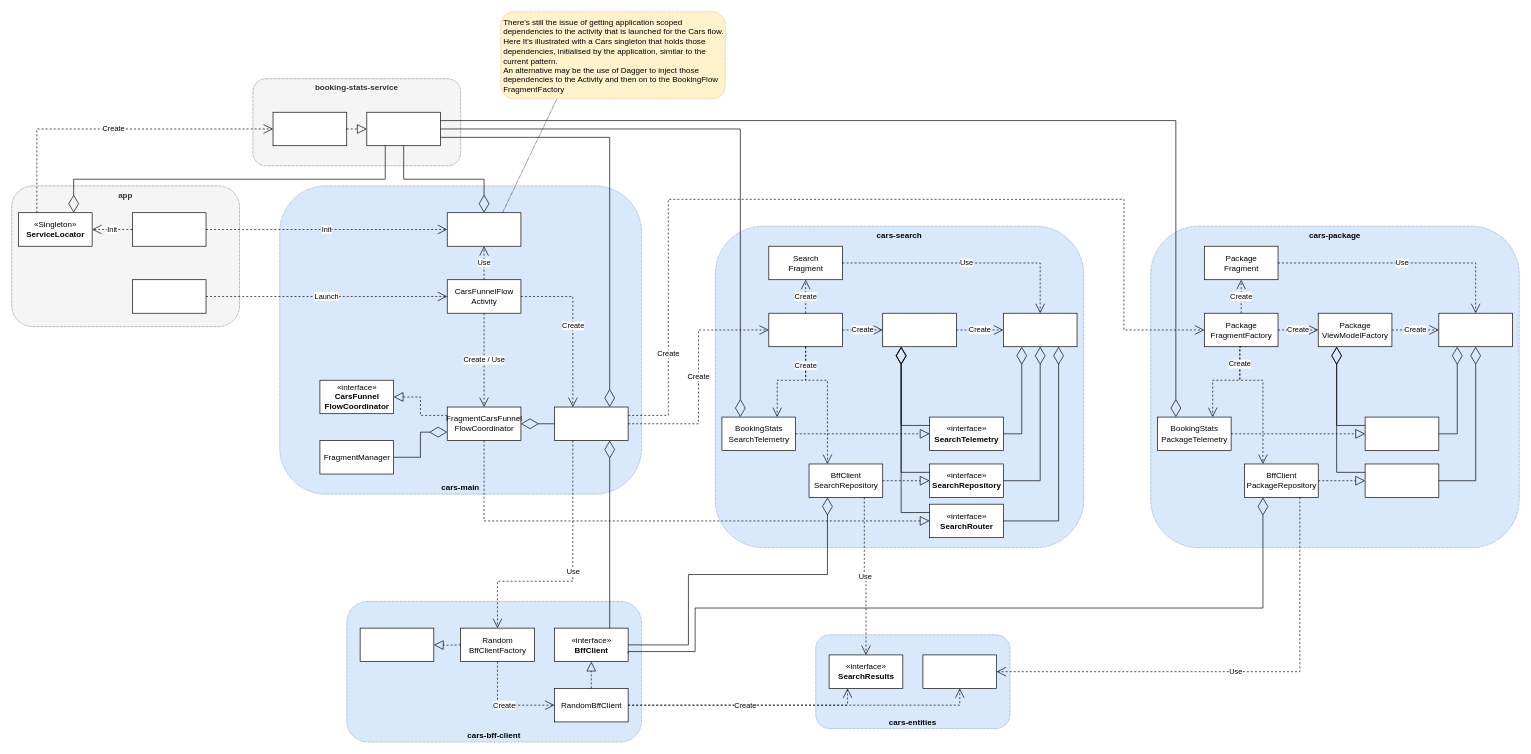
Some shapes in this 1531 by 754 pixel diagram are drawn without their labels. The centre of each missing label's shape, as x and y in pixels:
BookingApp: (x=169, y=229)
CarsFunnelFlow FragmentFactory: (x=591, y=423)
MainActivity: (x=169, y=296)
Package ViewModel: (x=1475, y=330)
Search FragmentFactory: (x=805, y=330)
Search ViewModel: (x=1040, y=330)
Search ViewModelFactory: (x=919, y=330)
StatsImpl: (x=309, y=129)
«interface» BffClientFactory: (x=396, y=644)
«interface» PackageRepository: (x=1401, y=480)
«interface» Packages: (x=959, y=671)
«interface» PackageTelemetry: (x=1401, y=433)
«interface» Stats: (x=403, y=129)
«Singleton» Cars: (x=484, y=229)
